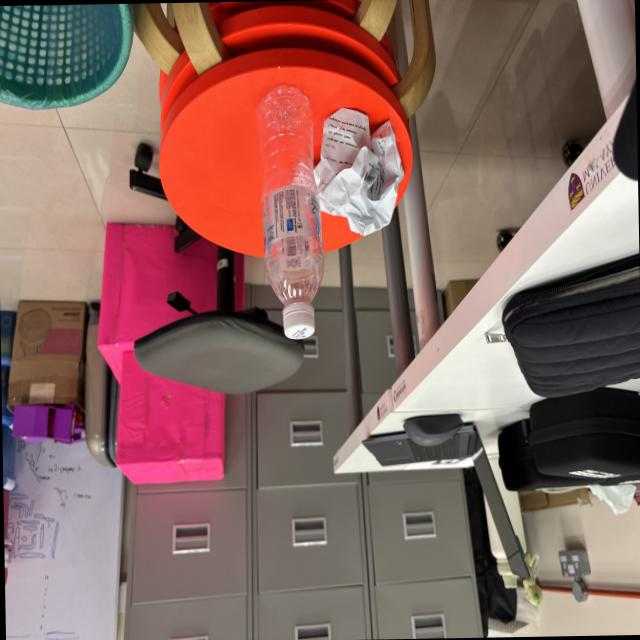crumpled_paper: (309, 94, 413, 246)
plastic_bottle: (250, 71, 330, 347)
